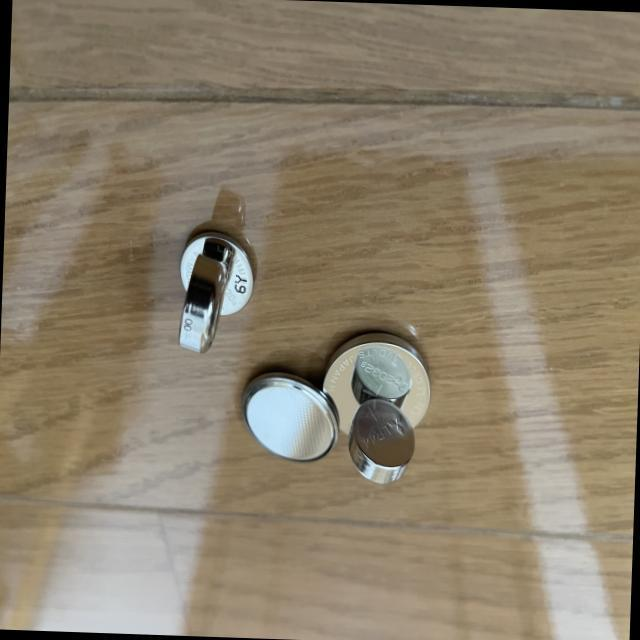COIN: (319, 327, 433, 440), (238, 367, 338, 465), (178, 224, 254, 316), (346, 393, 414, 487), (173, 248, 227, 358)
